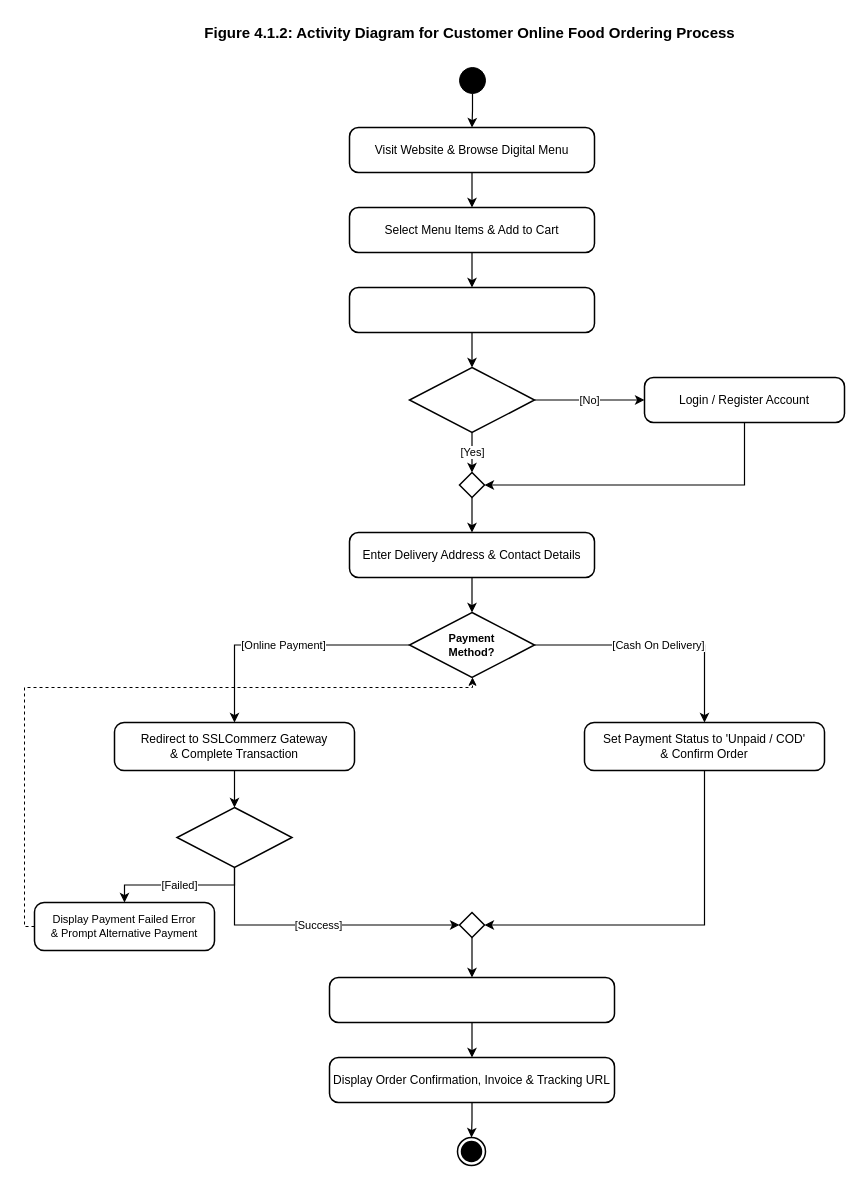
This 863x1183 diagram has some shape labels left out. The shapes that lost their labels are listed below. From the top down, each one's centre as x and y in pixels, then its label:
the point at 471,309: Review Cart & Click 'Proceed to Checkout'
the point at 471,399: Customer Logged In?
the point at 234,837: Payment Success?
the point at 471,999: Store Order in DB & Send Ticket to Kitchen (KDS)
